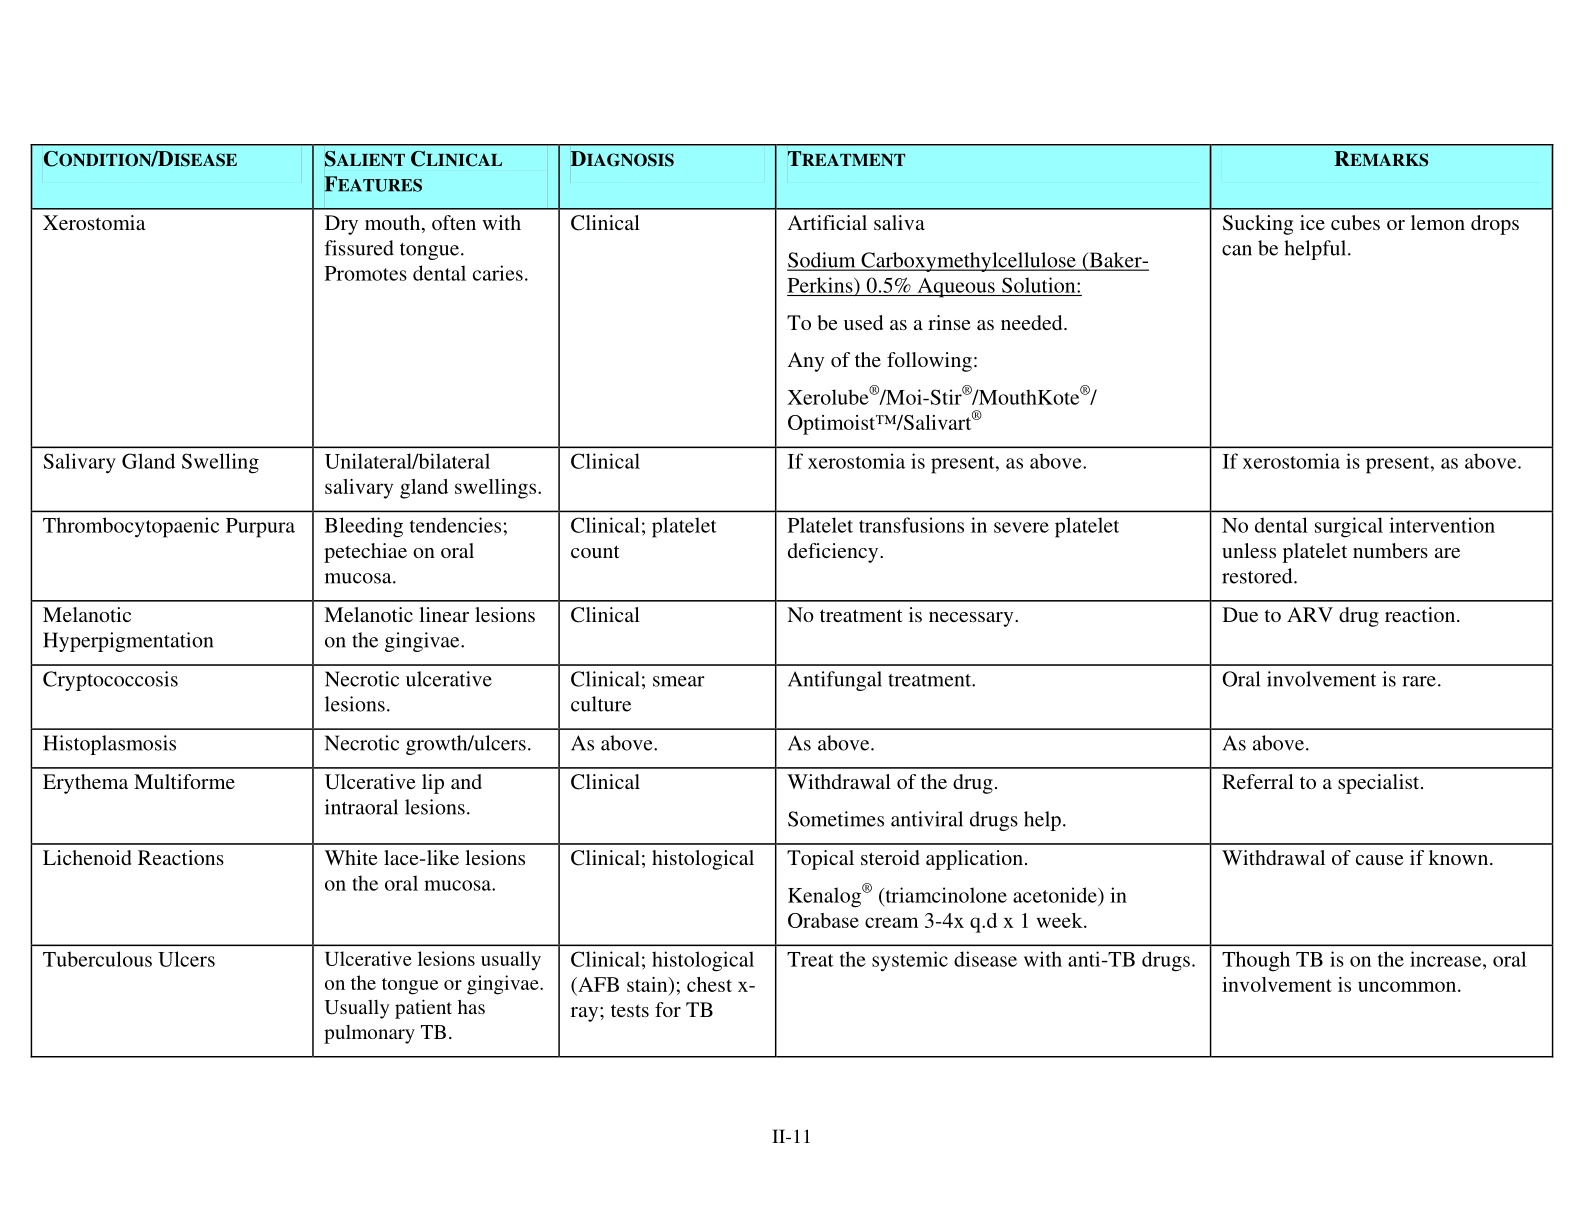full_lined: (30, 143, 1554, 1058)
